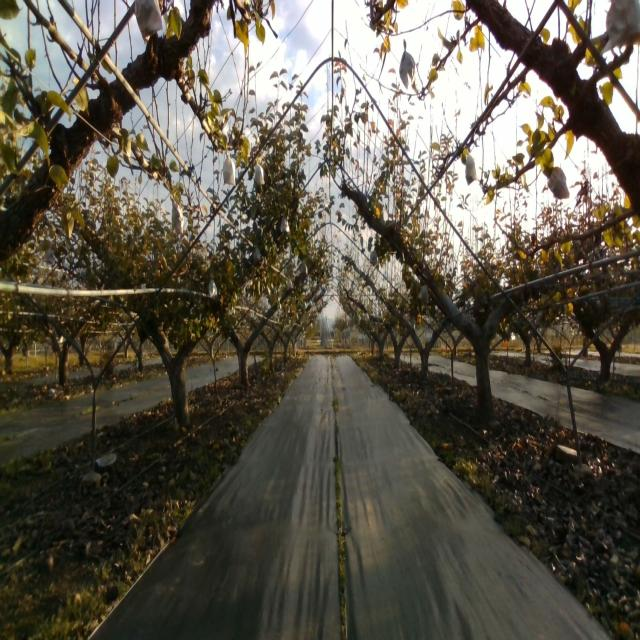pearbags: (606, 0, 640, 49), (135, 0, 163, 45), (399, 39, 415, 89), (548, 166, 570, 200), (222, 154, 238, 187), (170, 194, 183, 234), (464, 152, 476, 185), (253, 158, 266, 186), (418, 284, 429, 304)
